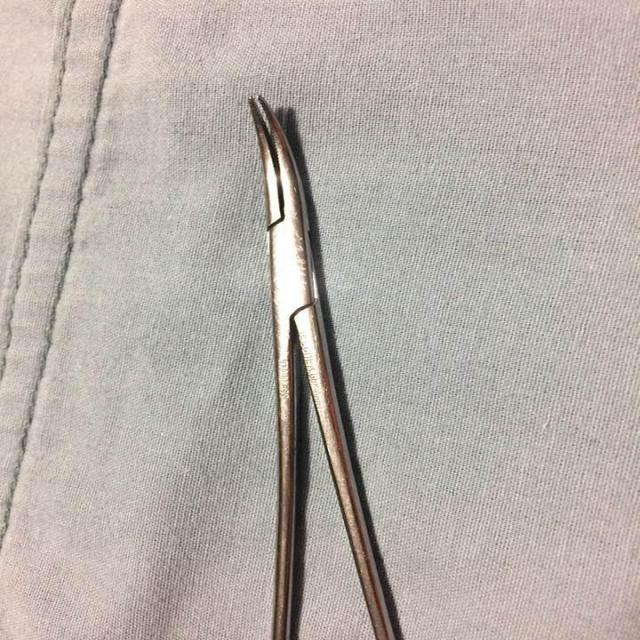Hemostat: (241, 93, 407, 640)
